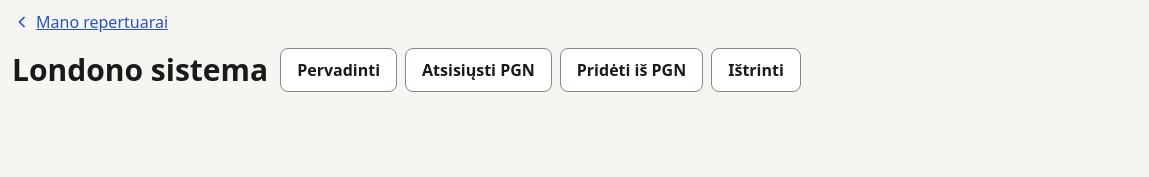
Scenario: RepertoireActions › says it in the header’s delete too
Step 1. Click the button "Ištrinti" → (756, 70), box [711,48,801,92]
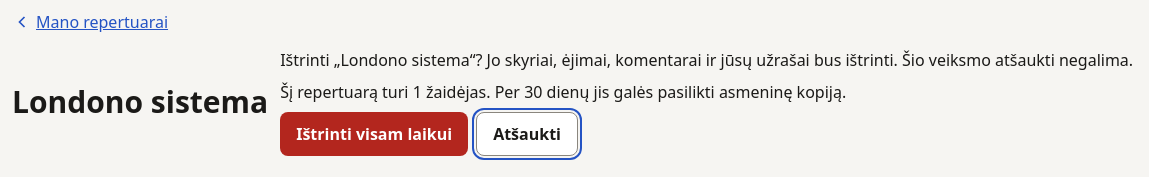
Now the text "Šį repertuarą turi 1 žaidėjas. Per 30 dienų jis galės pasilikti asmeninę kopiją." is shown, box [280,81,846,103]
